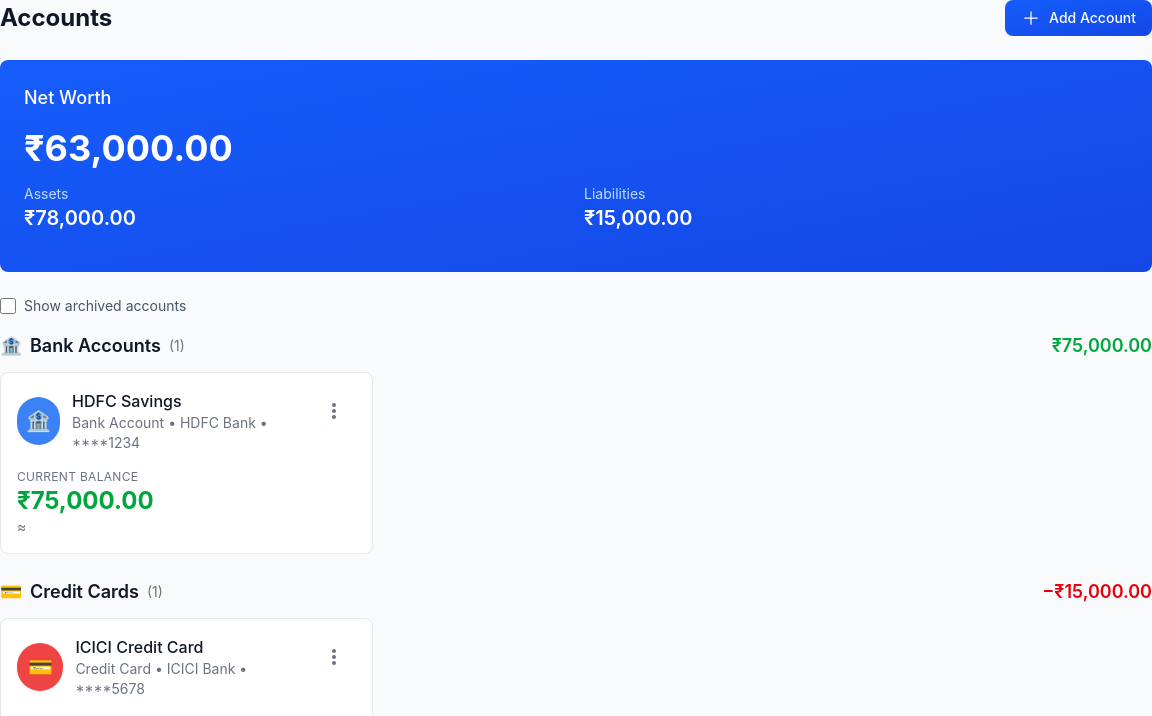
Test: AccountsPage - Account Card Menu › should show error in delete modal when account has transactions
expect the heading "HDFC Savings" is shown: met, box x1=72 y1=389 x2=182 y2=413
Click the button without text next to "• ****1234".
click(334, 411)  # box x1=312 y1=389 x2=356 y2=433
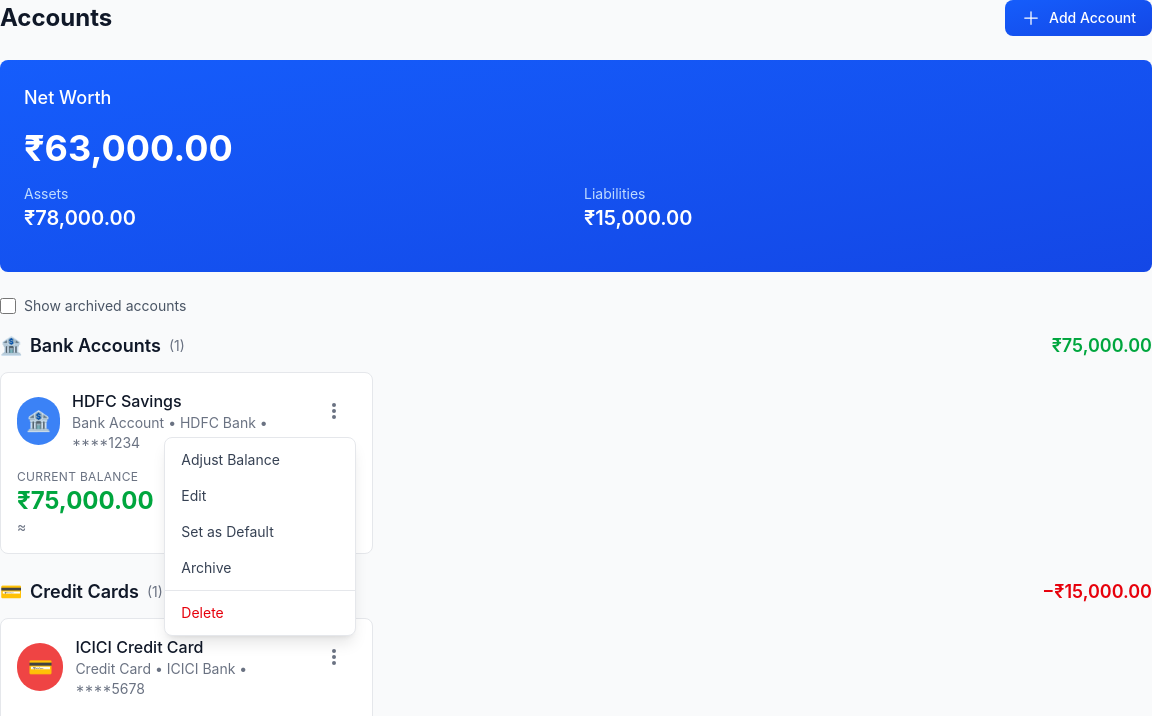
Click the button "Delete".
click(260, 613)  # box x1=165 y1=595 x2=355 y2=631
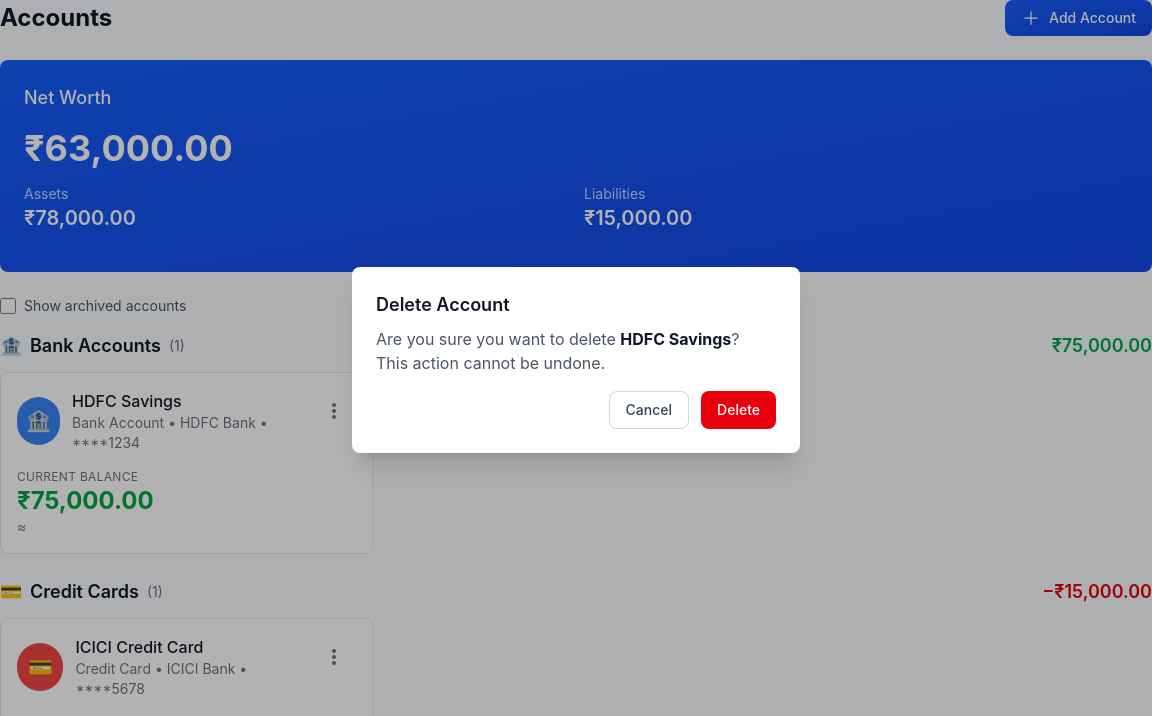
Click the button "Delete".
click(739, 410)  # box x1=701 y1=391 x2=776 y2=429
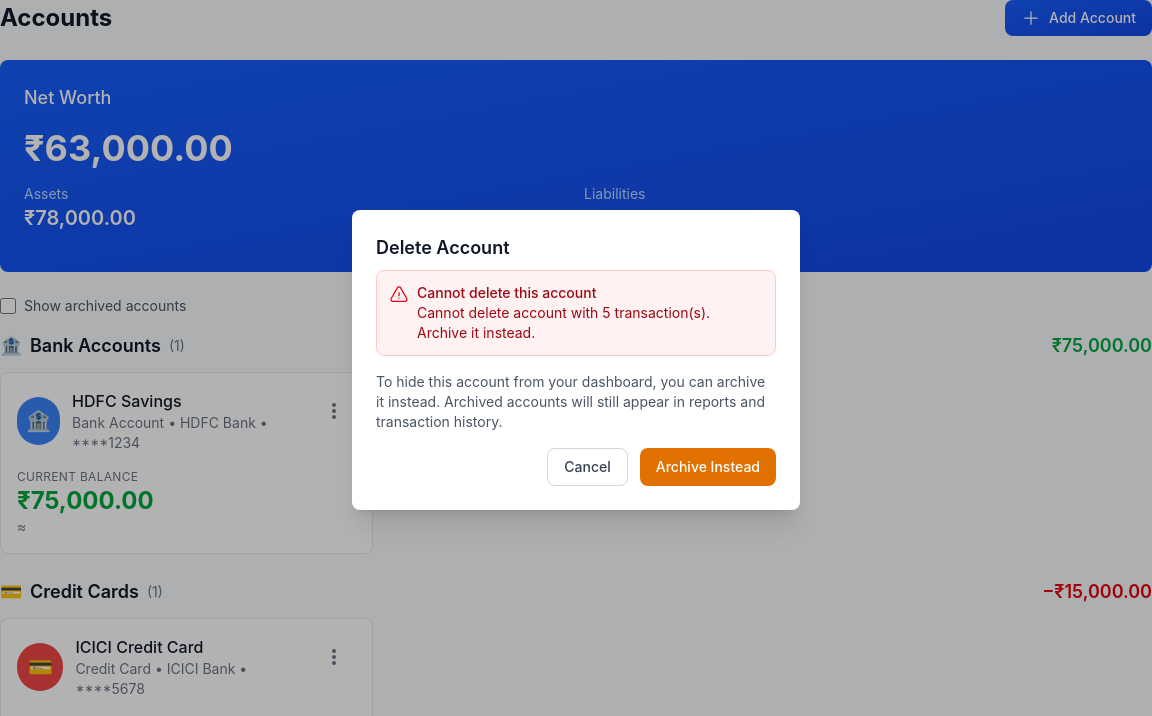
expect the text "Cannot delete account with 5 transaction" is shown: met, box x1=417 y1=304 x2=710 y2=341
expect the button "Archive Instead" is shown: met, box x1=640 y1=448 x2=776 y2=486
